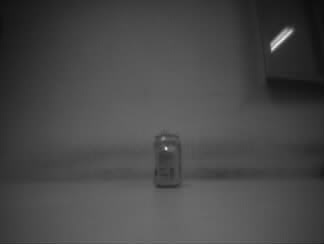Tin can: (153, 128, 183, 189)
